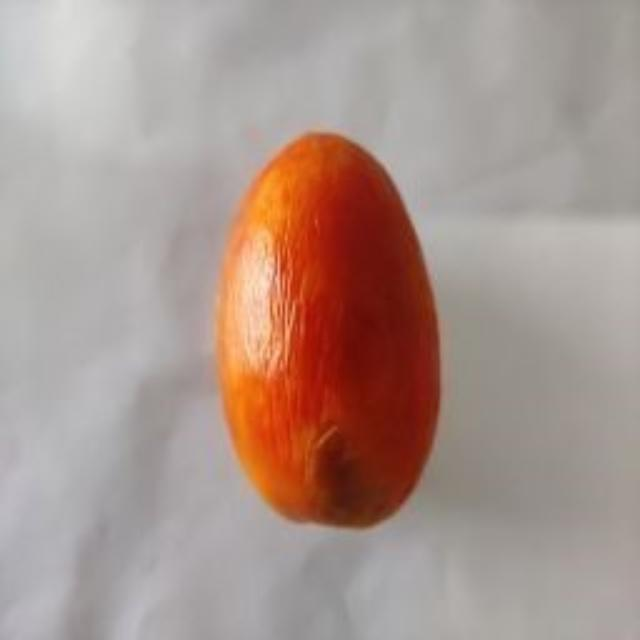defect: (211, 124, 449, 535)
